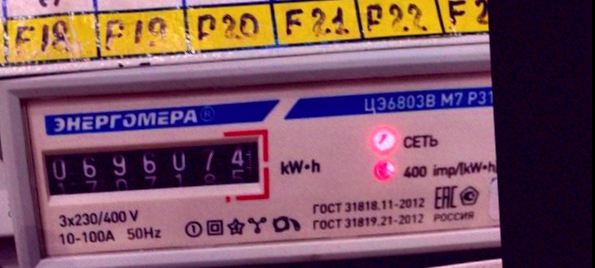0: (48, 155, 68, 180), (170, 146, 187, 172)
4: (227, 143, 245, 166)
5: (230, 168, 247, 184)
6: (141, 148, 159, 175), (80, 153, 98, 178)
7: (200, 145, 218, 171)
9: (110, 150, 127, 177)
screen: (31, 124, 274, 207)
